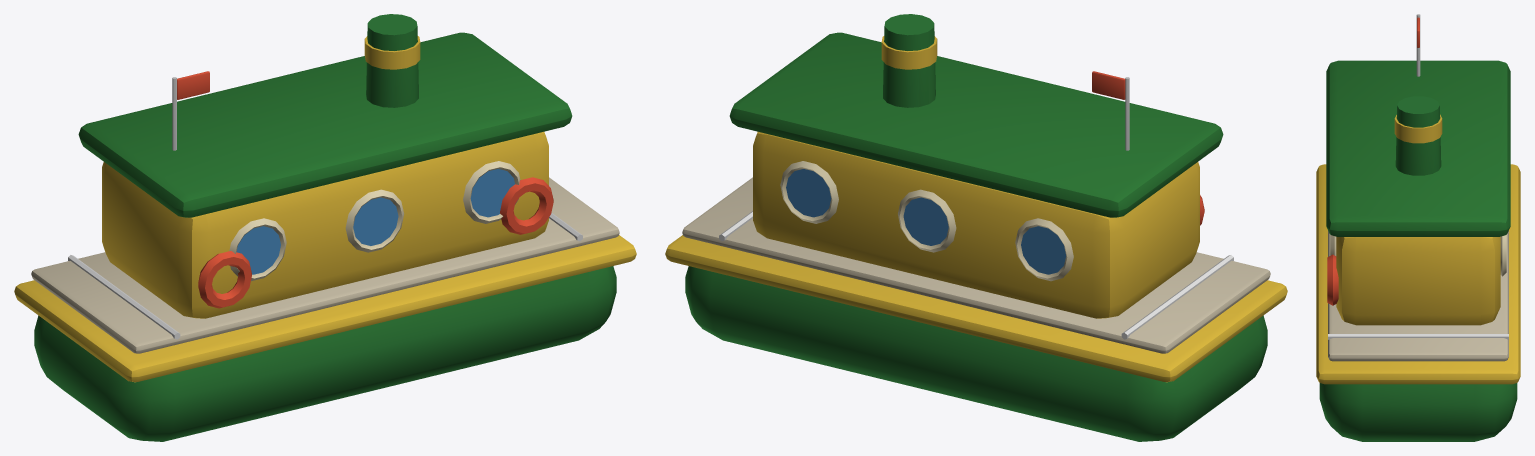
Rendered from pp-ferry.glb.
The picture shows the model from 3 angles, left to right: view 1: azimuth 30°, elevation 25°; view 2: azimuth 150°, elevation 25°; view 3: azimuth 270°, elevation 25°; orthographic projection. The views are drawn at different scales.
Size of the model in its own units: 3.04 by 1.84 by 1.24.
